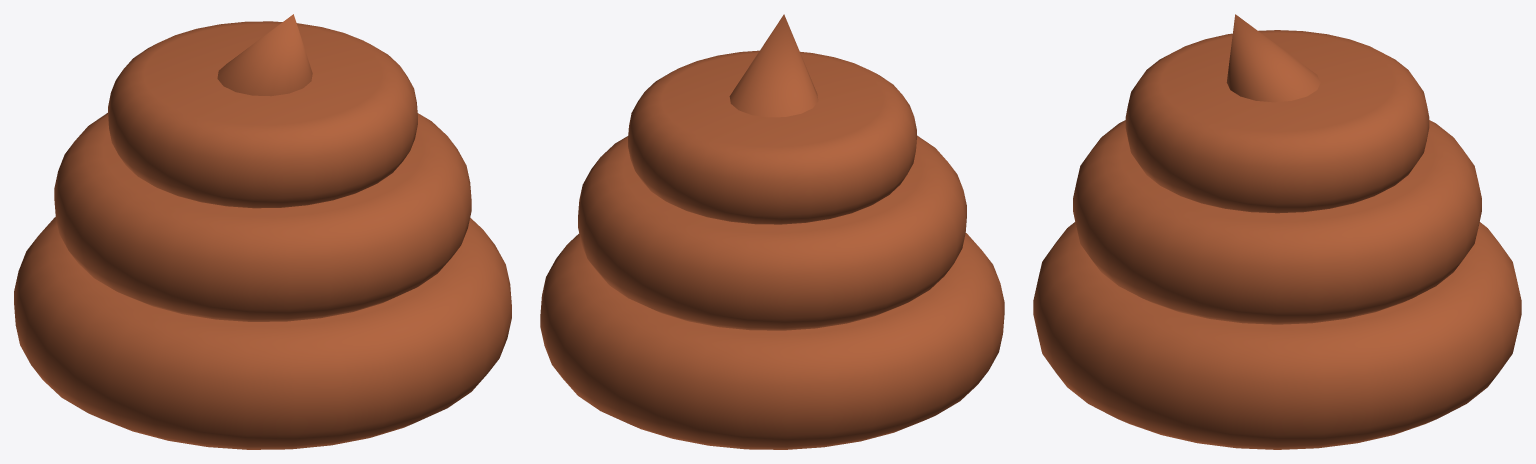
File: dung.fbx
3 renders of one model, left to right at view 1: azimuth 30°, elevation 25°; view 2: azimuth 150°, elevation 25°; view 3: azimuth 270°, elevation 25°, orthographic. The views are drawn at different scales.
Parts seen in each view (by area): view 1: Cylinder, Cylinder.001, Cylinder.002, Cone; view 2: Cylinder, Cylinder.001, Cylinder.002, Cone; view 3: Cylinder, Cylinder.001, Cylinder.002, Cone.
Part boxes in pixels (box(x1,y1,x2,y2)): Cylinder: box(14, 217, 511, 449); Cylinder.001: box(54, 113, 471, 321); Cylinder.002: box(108, 21, 417, 208); Cone: box(217, 14, 312, 96); Cylinder: box(540, 233, 1004, 449); Cylinder.001: box(578, 135, 966, 330); Cylinder.002: box(628, 50, 916, 224); Cone: box(729, 14, 818, 117); Cylinder: box(1033, 222, 1521, 449); Cylinder.001: box(1073, 120, 1481, 324); Cylinder.002: box(1125, 30, 1429, 213); Cone: box(1226, 14, 1320, 102).
Size of the model in its own units: 200 by 161 by 200.
